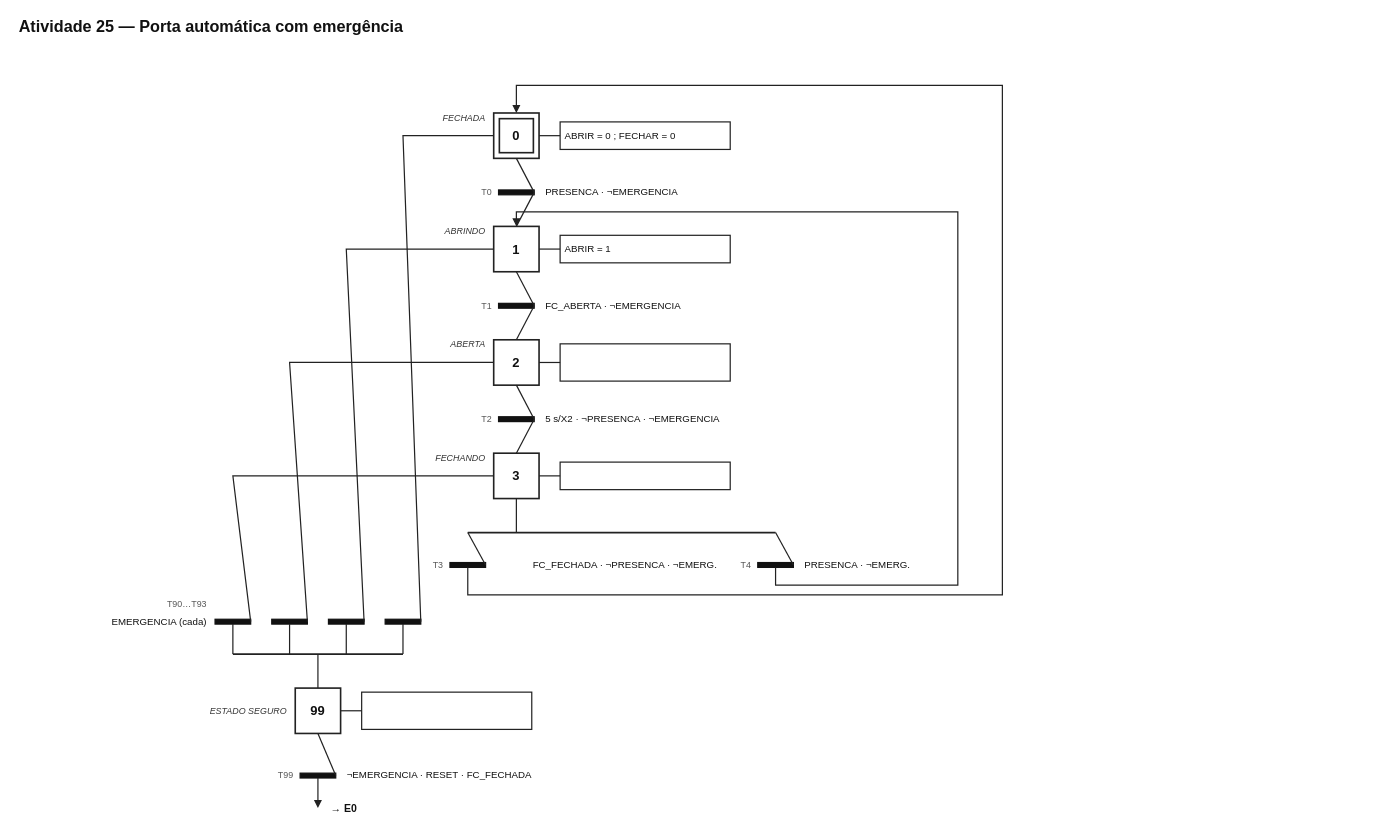
The diagram is 1388 pixels wide and 831 high, and some of its shapes have lost their labels. Each missing label, with the centre of its shape:
ABRIR = 0 ; FECHAR = 0 (temporiza 5 s): (x=644, y=362)
ABRIR = 0 ; FECHAR = 0 ALARME = 1: (x=446, y=710)
FECHAR = 1: (x=644, y=475)
